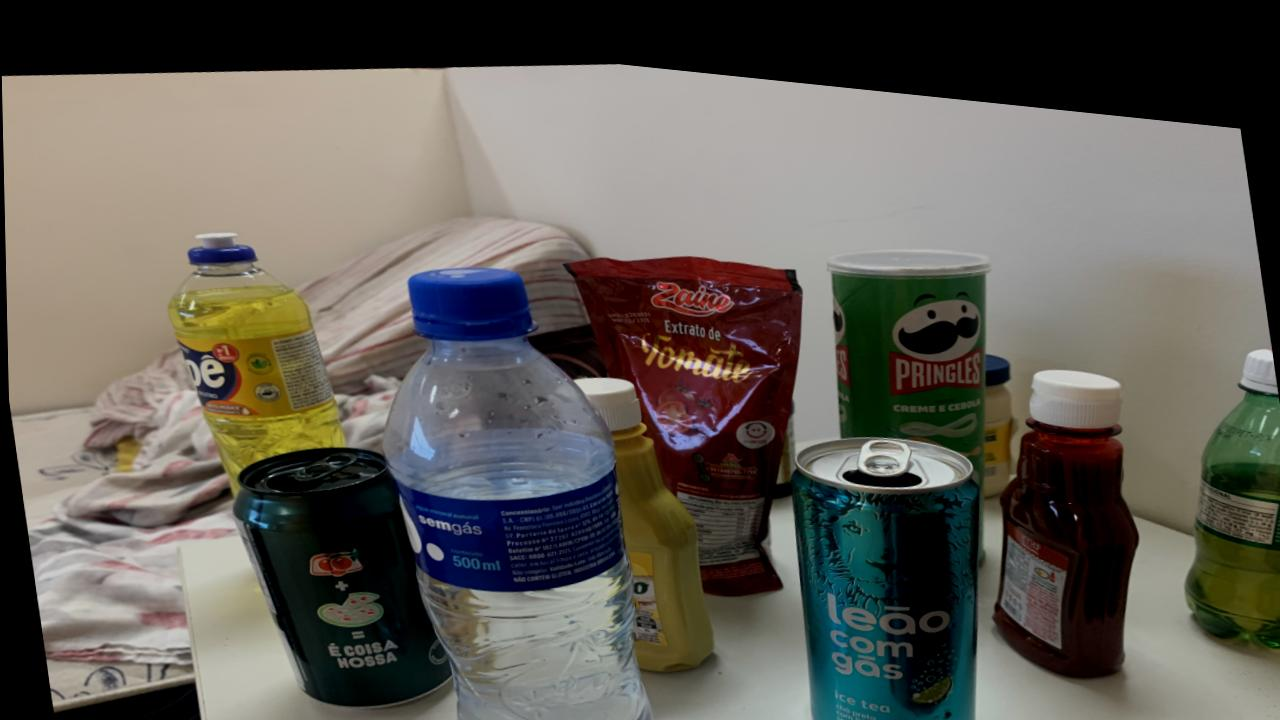Detergent-Cleanup_Items: (166, 228, 343, 486)
Guarana-Drinks: (1182, 322, 1280, 621)
Guarana_Can-Drinks: (230, 440, 450, 699)
Ketchup-Pantry_Items: (990, 346, 1137, 654)
Mayonnaise-Pantry_Items: (981, 334, 1016, 474)
Mustard-Pantry_Items: (573, 363, 712, 658)
Pringles-Snacks: (827, 228, 990, 463)
Tea-Drinks: (790, 418, 979, 720)
Tomato_Sauce-Pantry_Items: (565, 242, 802, 580)
Water_Bottle-Drinks: (382, 257, 652, 720)
